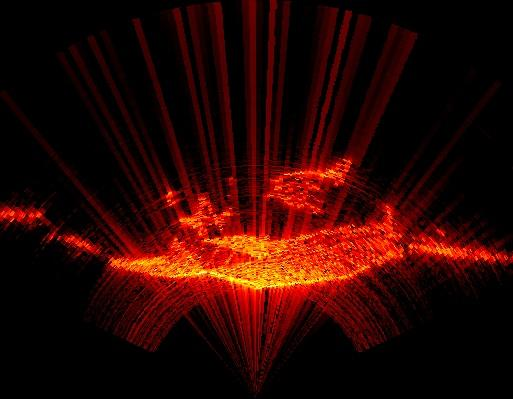shipwreck: (109, 208, 502, 287), (269, 172, 340, 212), (1, 207, 48, 222)
